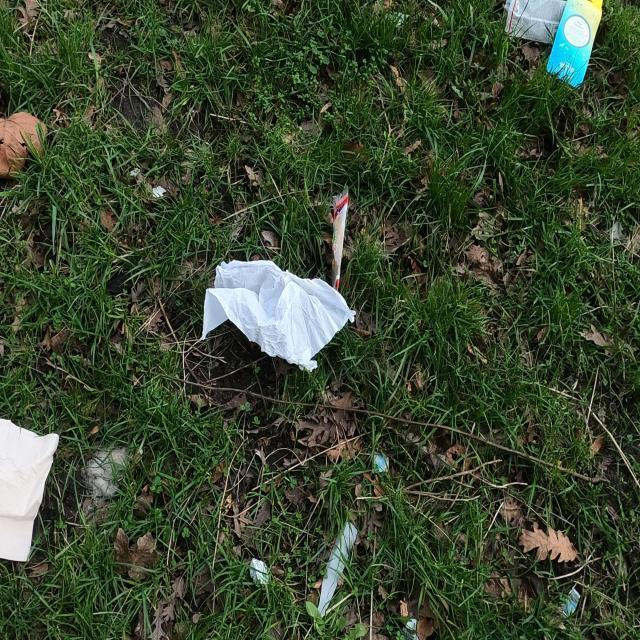Paper: (200, 258, 357, 373), (0, 417, 60, 562), (500, 0, 568, 44)
Plastic: (330, 185, 350, 292)
